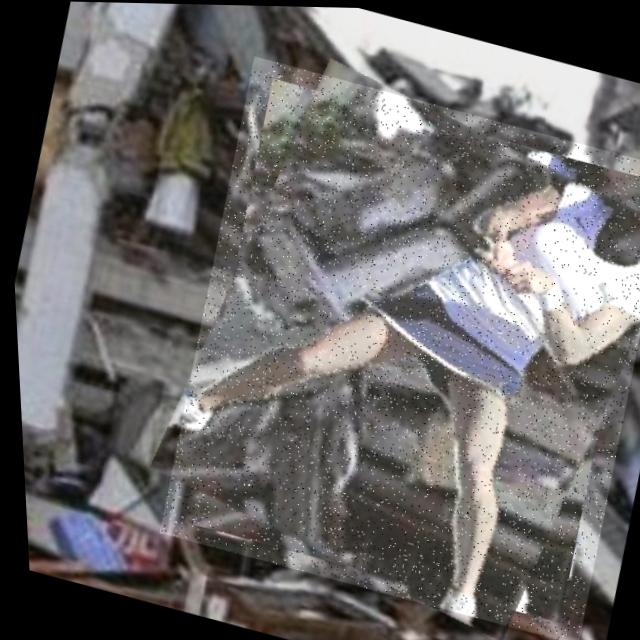Person in Rubble: (133, 52, 640, 640)
